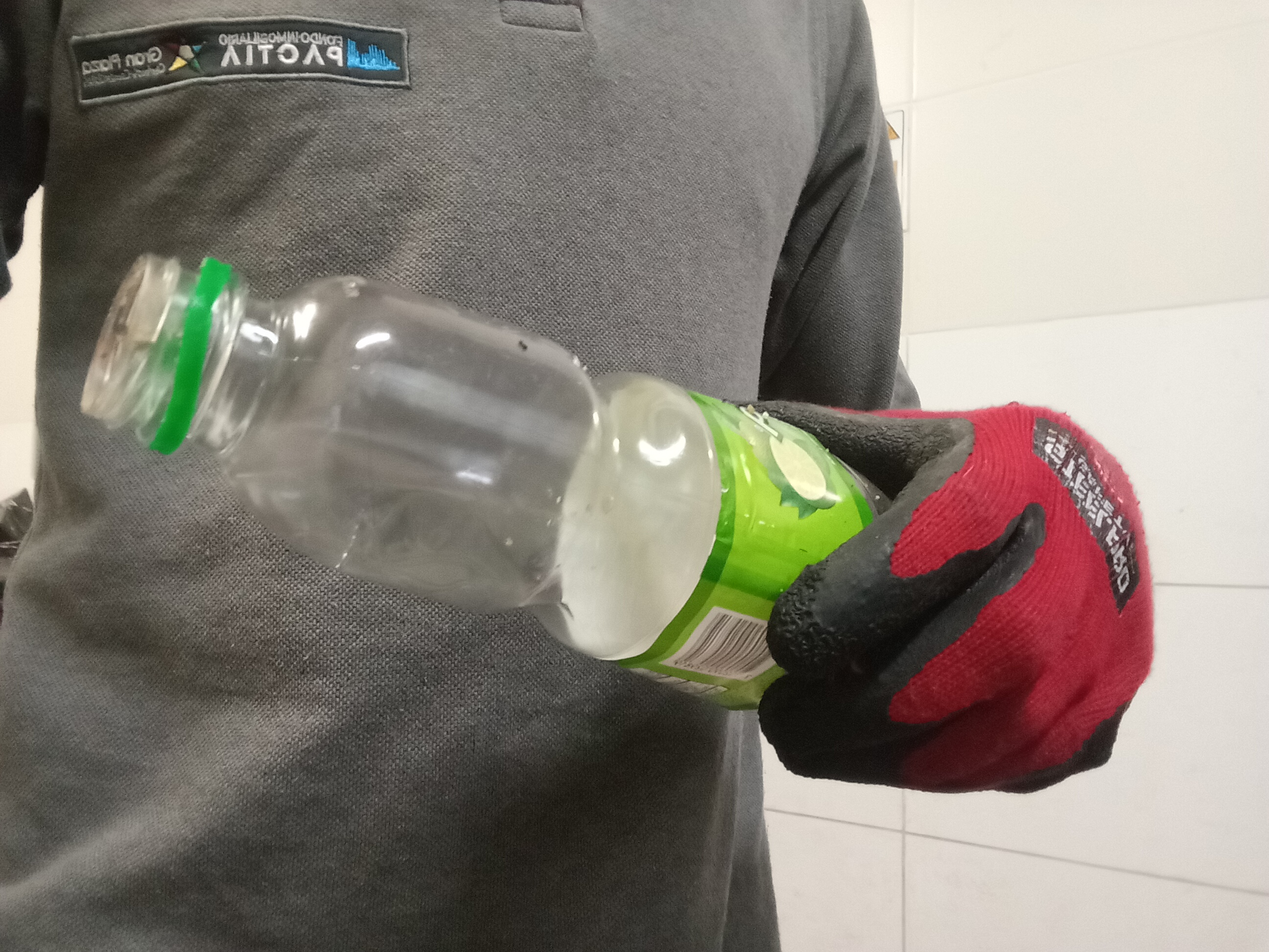Plastico: (76, 252, 892, 712)
